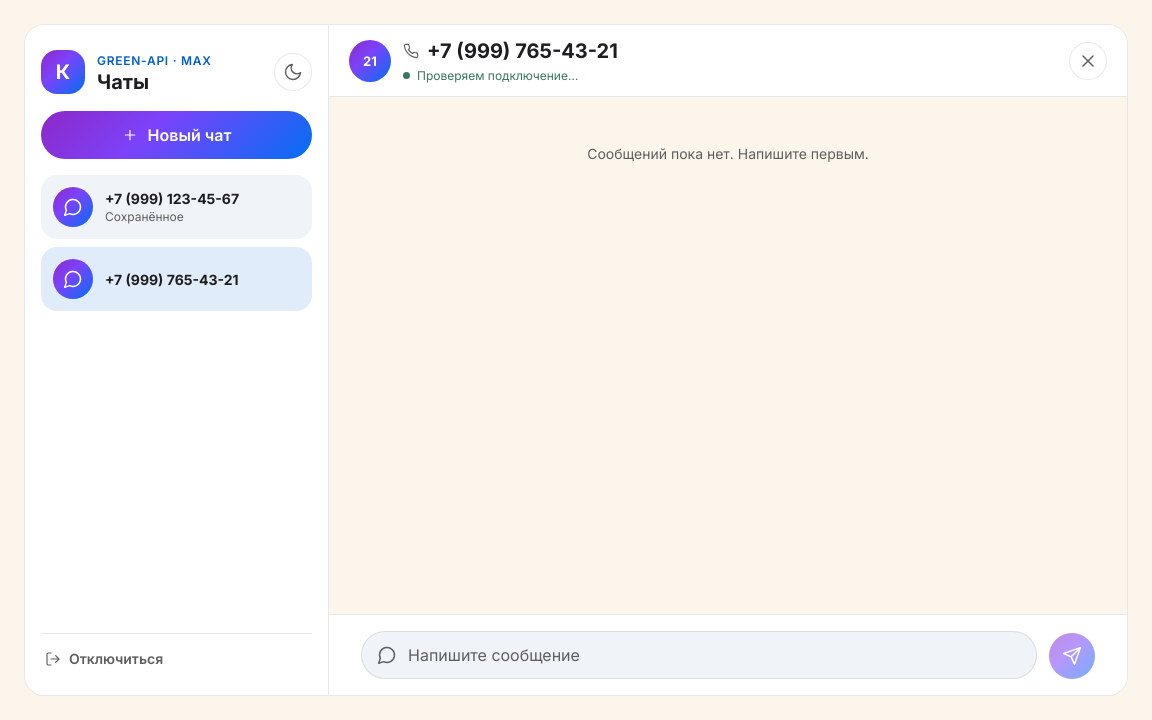
Scenario: assigns a new message ID above saved numeric IDs
This screenshot has width=1152, height=720.
Type "Новое" into the text box labelled "сообщение" at (699, 655), box [361,631,1037,679]
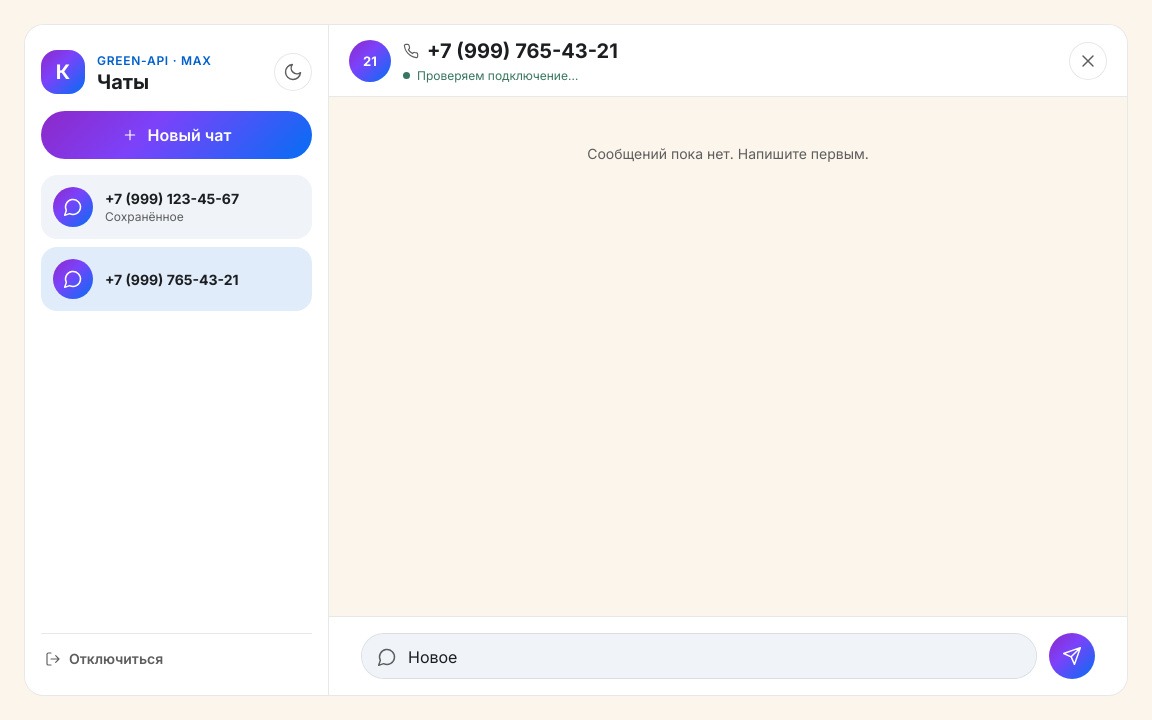
Click the button named "Отправить" at (1072, 656), box [1049,633,1095,679]
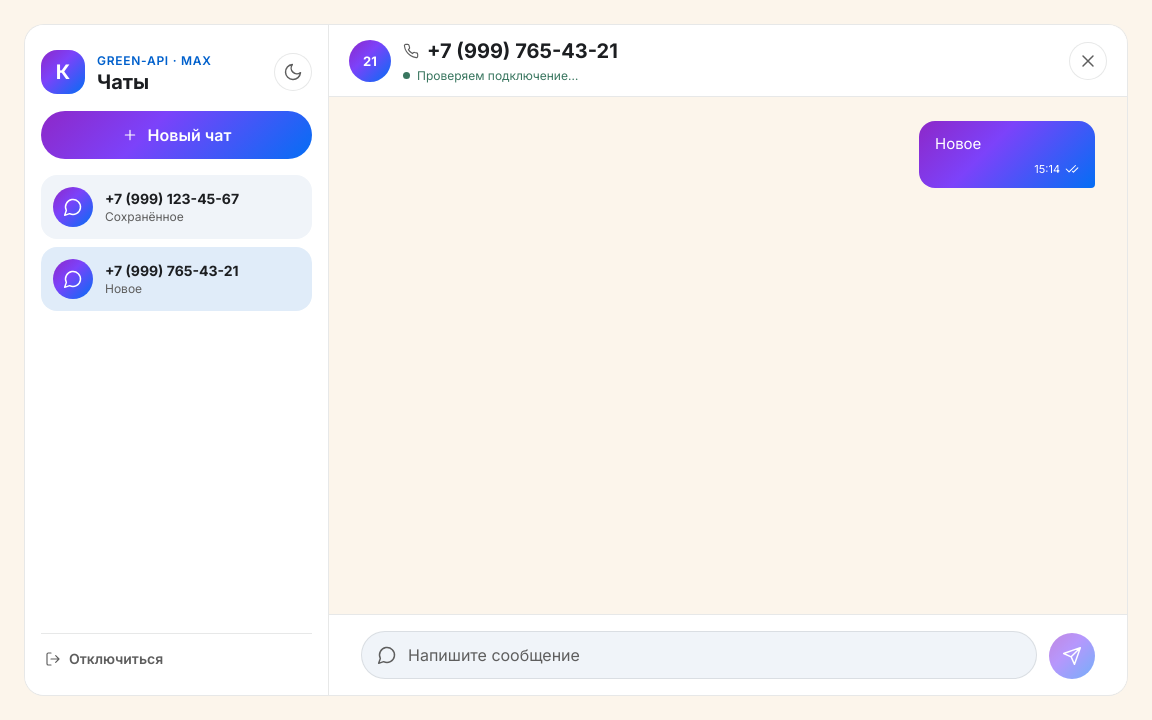
Expected: the 1st text "Новое" is shown, [935,134,981,153]
